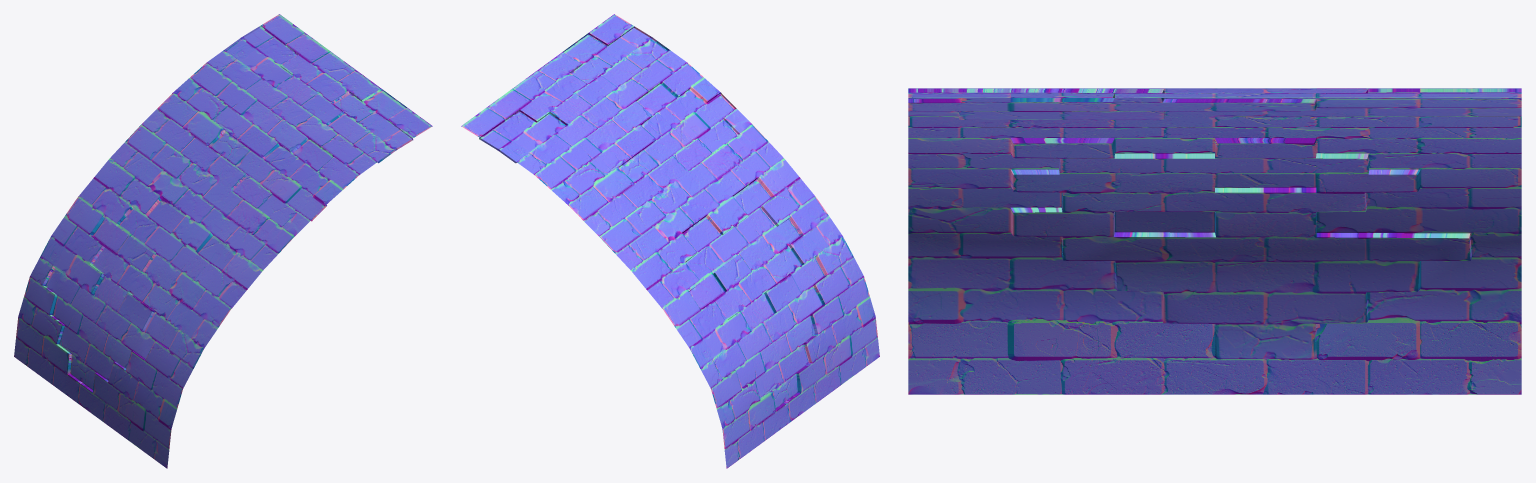
Rendered from Dungeon_WallCurvedBricksSmall.fbx.
3 renders of one model, left to right at view 1: azimuth 30°, elevation 25°; view 2: azimuth 150°, elevation 25°; view 3: azimuth 270°, elevation 25°, orthographic. The views are drawn at different scales.
Visible parts, largest first — view 1: _Mesh; view 2: _Mesh; view 3: _Mesh.
Boxes of the visible parts, bbox=[...] form: _Mesh: bbox=[14, 14, 432, 468]; _Mesh: bbox=[461, 14, 879, 468]; _Mesh: bbox=[908, 88, 1521, 394].
Bounding box in the file's own units: 4.01 × 4 × 4.
Materials: 1 (1 with a texture image).
